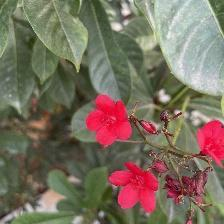jatropha: (104, 161, 162, 216), (85, 93, 134, 150), (194, 117, 224, 166)
